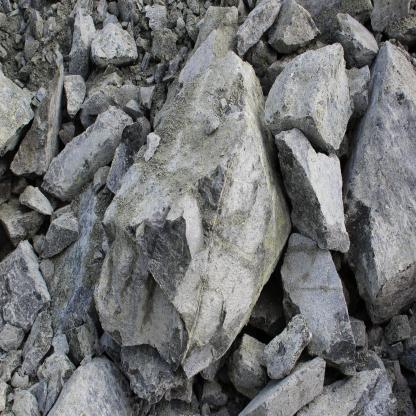stone: (98, 6, 292, 397), (344, 40, 416, 325), (279, 234, 356, 374), (261, 43, 355, 153), (274, 131, 351, 252), (41, 110, 131, 198), (47, 355, 133, 416), (240, 359, 326, 416), (0, 242, 50, 331), (262, 315, 311, 379), (269, 0, 320, 53), (332, 14, 378, 67), (237, 0, 280, 53), (230, 335, 266, 397), (39, 211, 80, 261), (91, 23, 137, 67), (21, 309, 51, 375), (68, 11, 96, 78), (372, 0, 416, 40), (66, 315, 104, 361), (37, 350, 76, 379), (348, 66, 369, 118), (63, 74, 87, 117), (19, 186, 54, 214), (43, 371, 63, 416), (152, 27, 176, 59), (13, 389, 41, 416), (202, 379, 228, 406), (0, 323, 25, 349), (93, 167, 111, 195), (138, 85, 155, 111), (37, 258, 54, 283), (52, 333, 70, 353), (37, 378, 47, 412), (11, 372, 30, 389)
